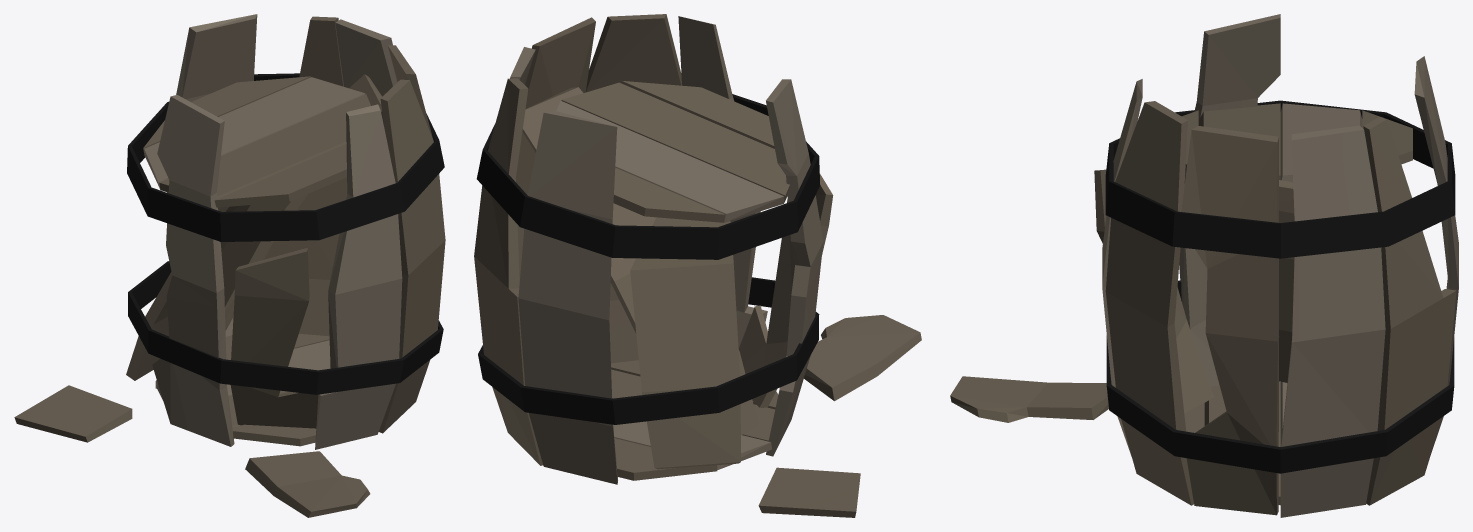
The model's file is barrel_broken.glb.
The picture shows the model from 3 angles, left to right: view 1: azimuth 30°, elevation 25°; view 2: azimuth 150°, elevation 25°; view 3: azimuth 270°, elevation 25°; orthographic projection. The views are drawn at different scales.
Visible parts, largest first — view 1: Barrel_broken; view 2: Barrel_broken; view 3: Barrel_broken.
Part boxes in pixels (box(x1,y1,x2,y2)): Barrel_broken: box(14, 14, 445, 517); Barrel_broken: box(474, 14, 921, 517); Barrel_broken: box(950, 14, 1458, 517).
Size of the model in its own units: 1.08 by 0.9261 by 1.12.
1 material, 1 textured.
